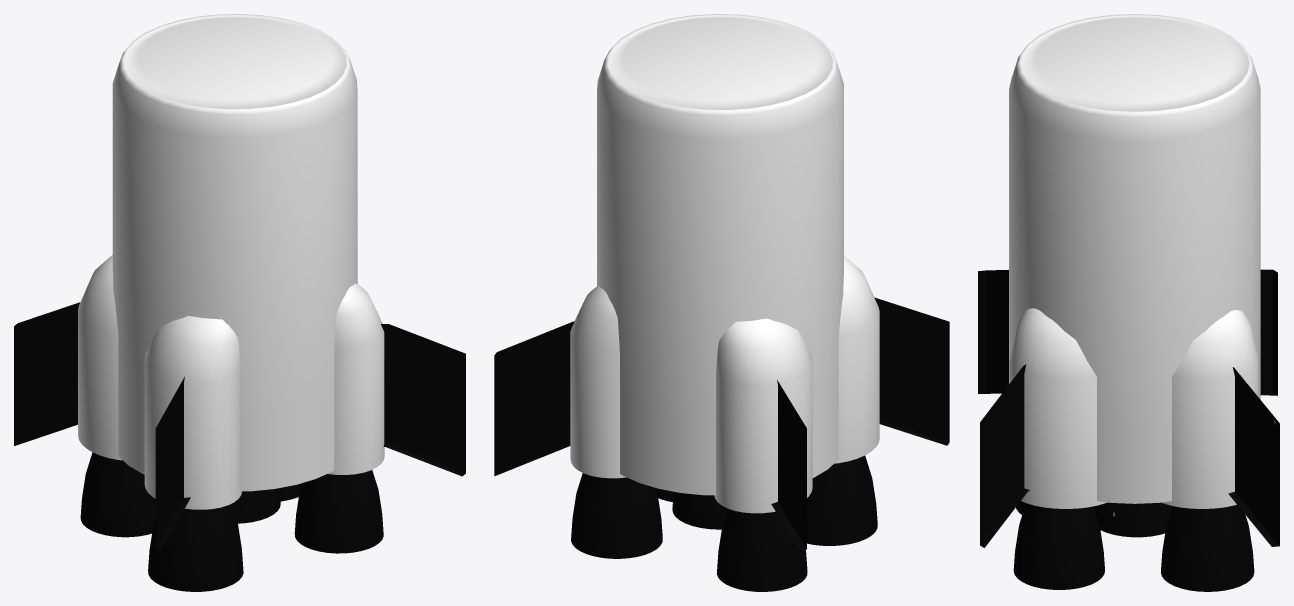
File: Bot.fbx
3 views of the same model, side by side, from view 1: azimuth 30°, elevation 25°; view 2: azimuth 150°, elevation 25°; view 3: azimuth 270°, elevation 25° (orthographic). The views are drawn at different scales.
Visible parts, largest first — view 1: tank stage 1.005; view 2: tank stage 1.005; view 3: tank stage 1.005.
Boxes of the visible parts, x1,y1,x2,y2 form: tank stage 1.005: (14,14,465,591); tank stage 1.005: (494,14,949,591); tank stage 1.005: (978,14,1279,591).
Size of the model in its own units: 64.05 by 92.55 by 52.53.
1 material, 1 textured.
